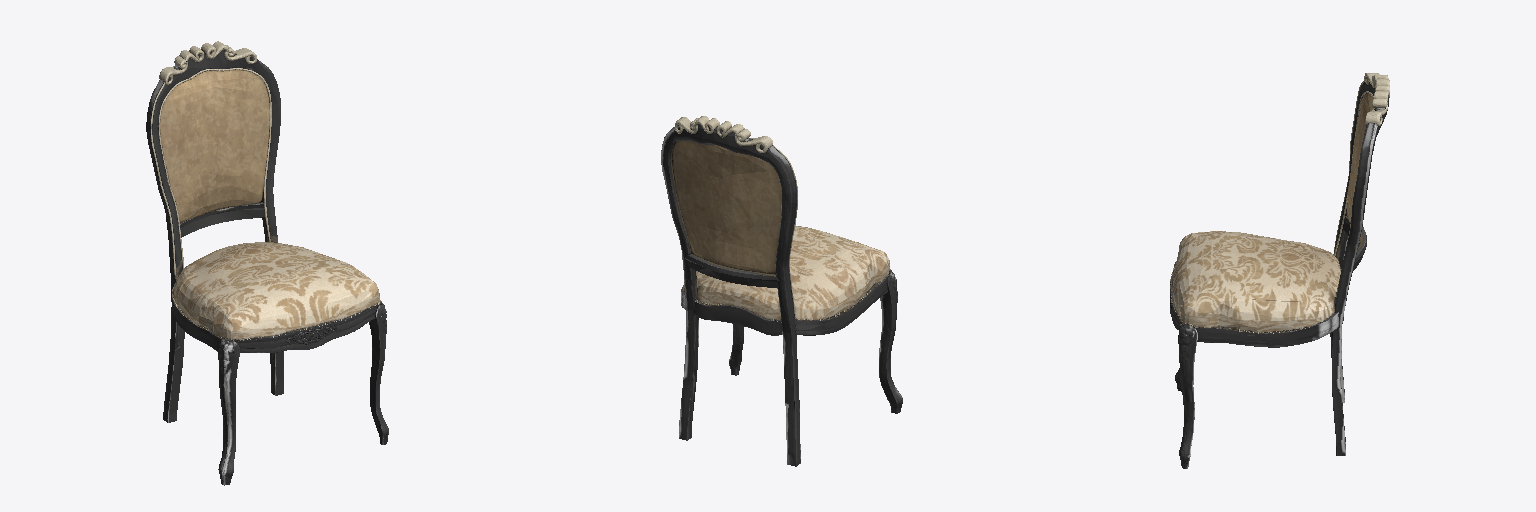
3 views of the same model, side by side, from view 1: azimuth 30°, elevation 25°; view 2: azimuth 150°, elevation 25°; view 3: azimuth 270°, elevation 25° (orthographic).
Parts seen in each view (by area): view 1: solid_001_wire; view 2: solid_001_wire; view 3: solid_001_wire.
Part boxes in pixels (x1,y1,x2,y2): solid_001_wire: (146, 41, 388, 485); solid_001_wire: (661, 116, 902, 466); solid_001_wire: (1170, 73, 1389, 468).
Size of the model in its own units: 0.5538 by 1.07 by 0.6217.
Materials: 1 (1 with a texture image).